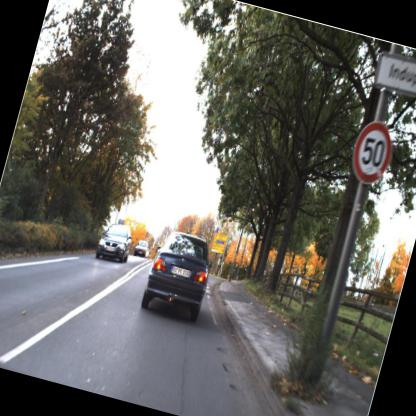prohibitory: (342, 112, 400, 186)
